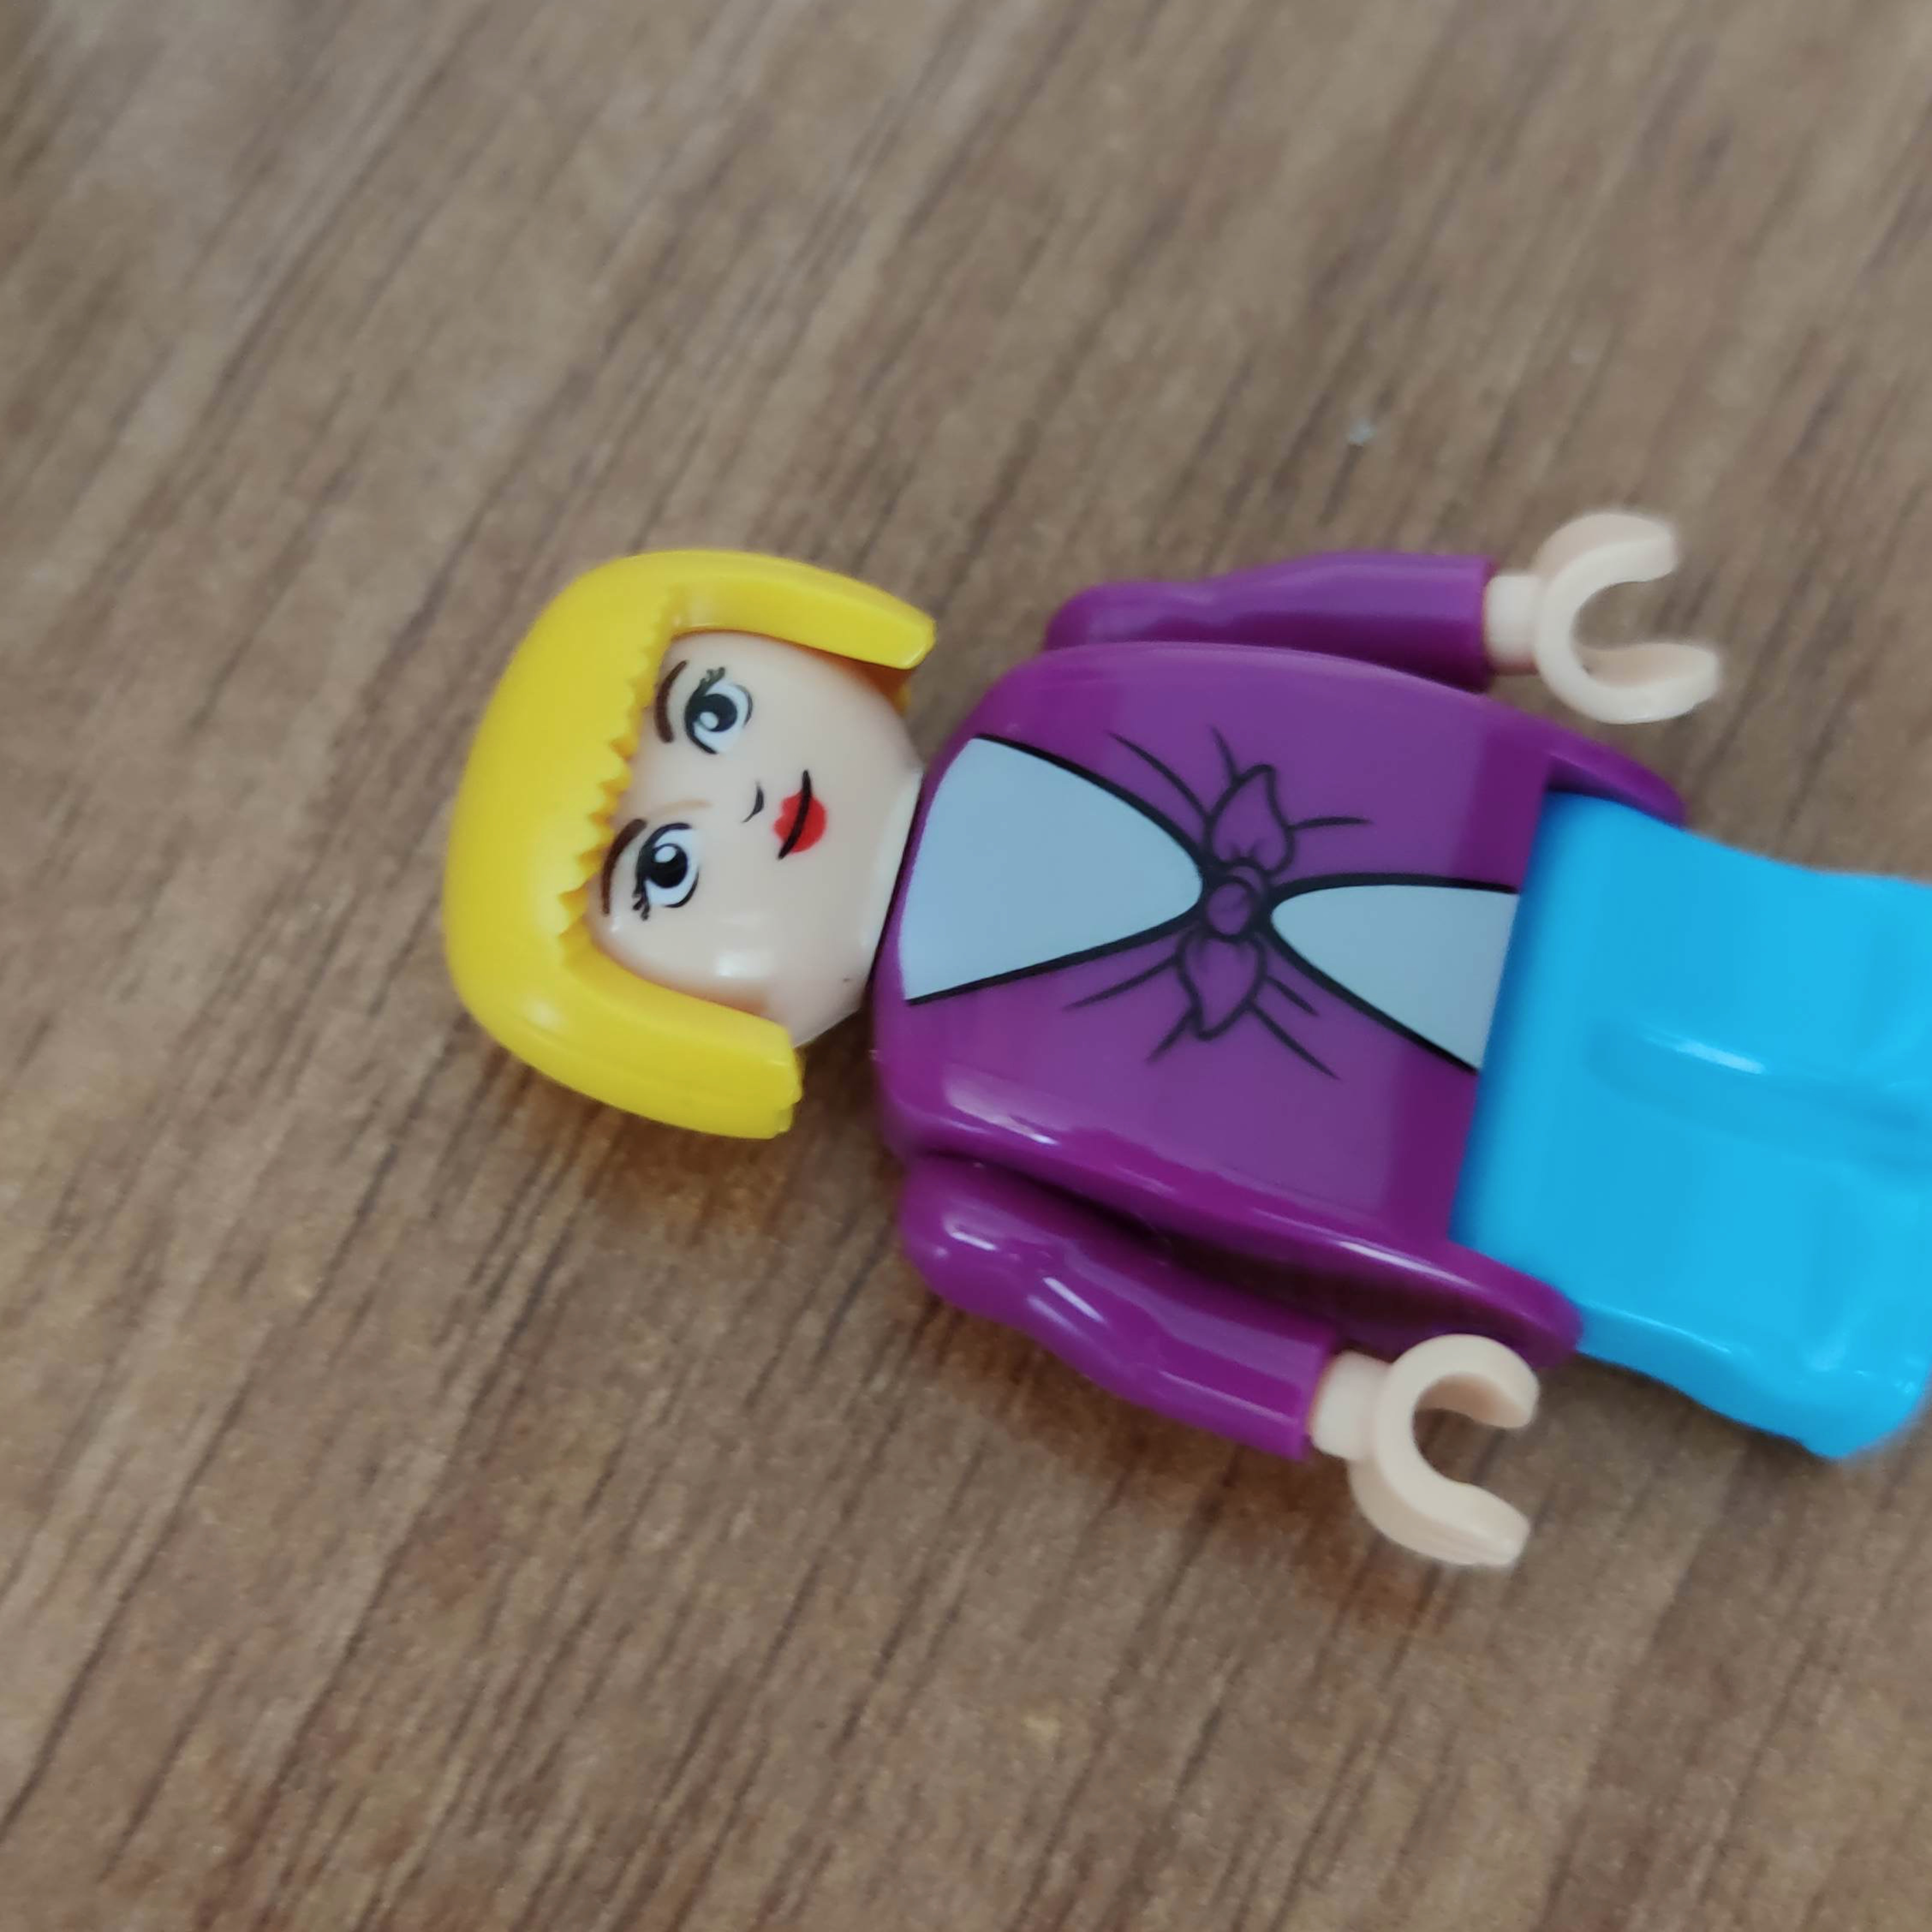lego: (444, 504, 1932, 1569)
